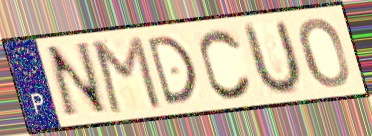C: (197, 26, 255, 102)
D: (143, 33, 201, 108)
M: (91, 33, 165, 117)
N: (43, 39, 112, 122)
O: (297, 15, 352, 91)
U: (241, 17, 304, 100)
